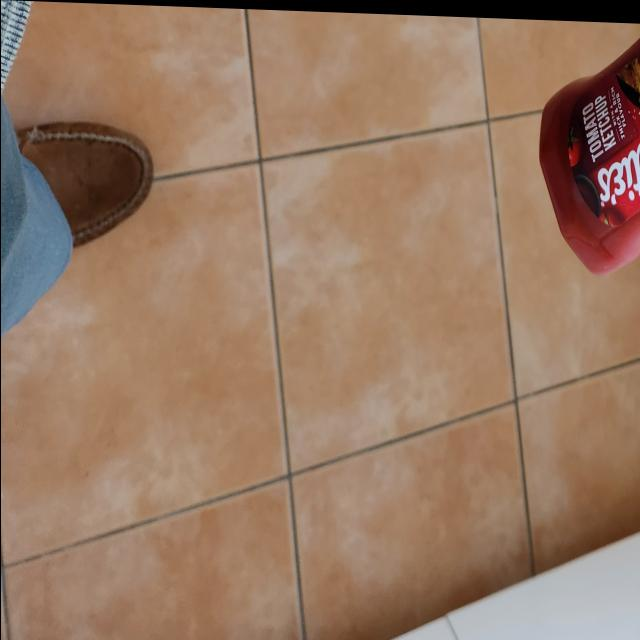ketchup: (538, 16, 640, 270)
